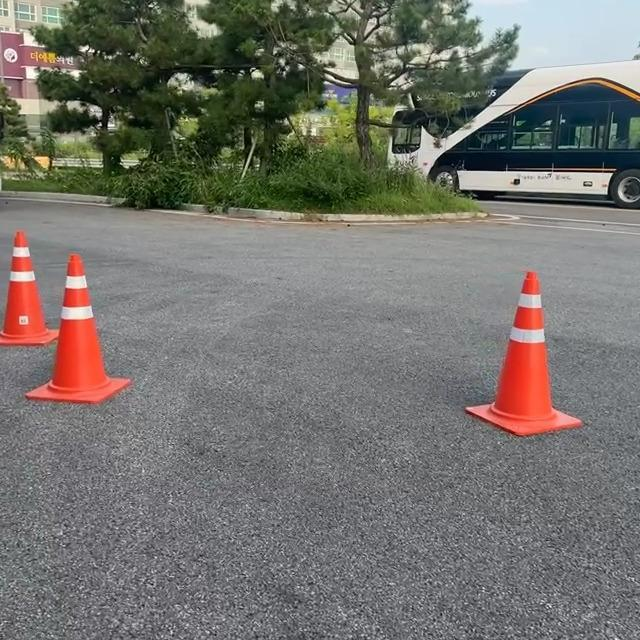fallen_object: (400, 229, 587, 506), (20, 215, 179, 491), (0, 183, 90, 404)
